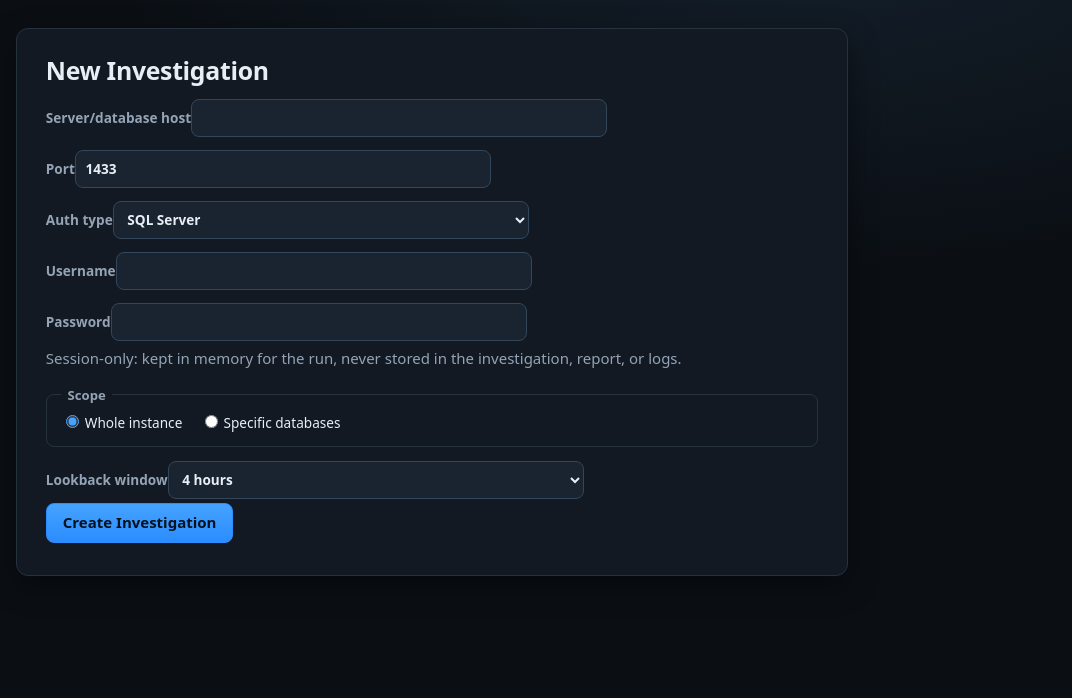
Test: ConnectionScopeForm › shows inline validation messages and sends nothing on an empty submit
Click the button "Create Investigation": (140, 523) 46,503 -> 234,543
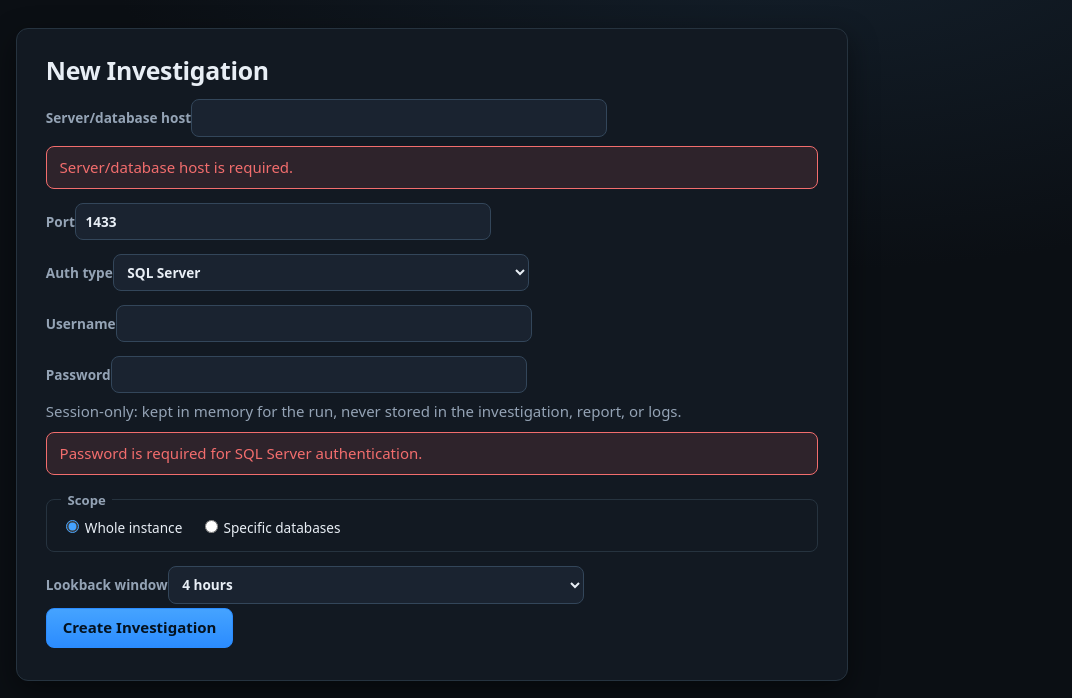
Check: the text "Server/database host is required." is shown, box 46,146 -> 818,189
Check: the text "Password is required for SQL Server authentication." is shown, box 46,432 -> 818,475
